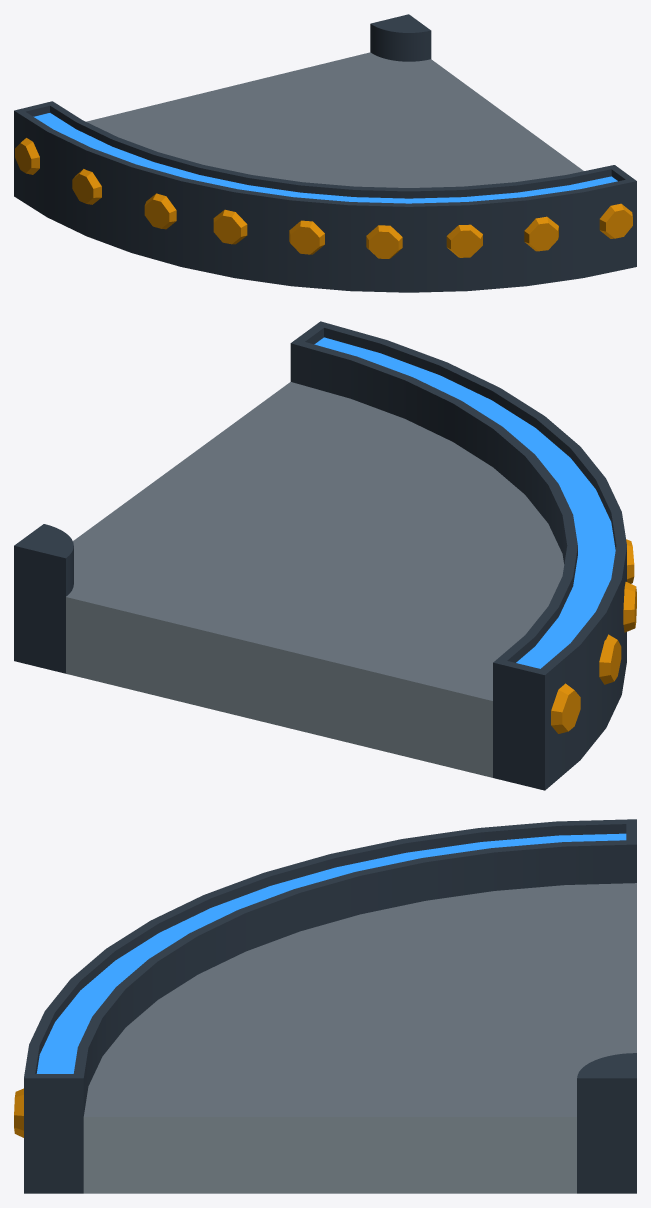
Rendered from SM_Belt_Left.fbx.
3 views of the same model, one above another, from view 1: azimuth 30°, elevation 25°; view 2: azimuth 150°, elevation 25°; view 3: azimuth 270°, elevation 25° (orthographic). The views are drawn at different scales.
Visible parts, largest first — view 1: Belt_Left; view 2: Belt_Left; view 3: Belt_Left.
Boxes of the visible parts, bbox=[...] form: Belt_Left: bbox=[14, 14, 636, 292]; Belt_Left: bbox=[14, 321, 636, 790]; Belt_Left: bbox=[14, 819, 636, 1193].
Size of the model in its own units: 102 by 20.77 by 102.
1 material, 1 textured.
